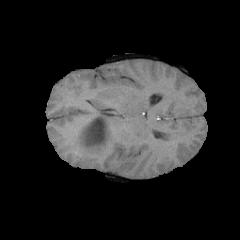glioma: (71, 105, 122, 156)
